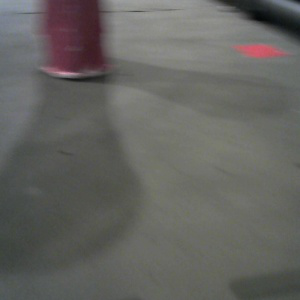middle: (36, 1, 110, 80)
